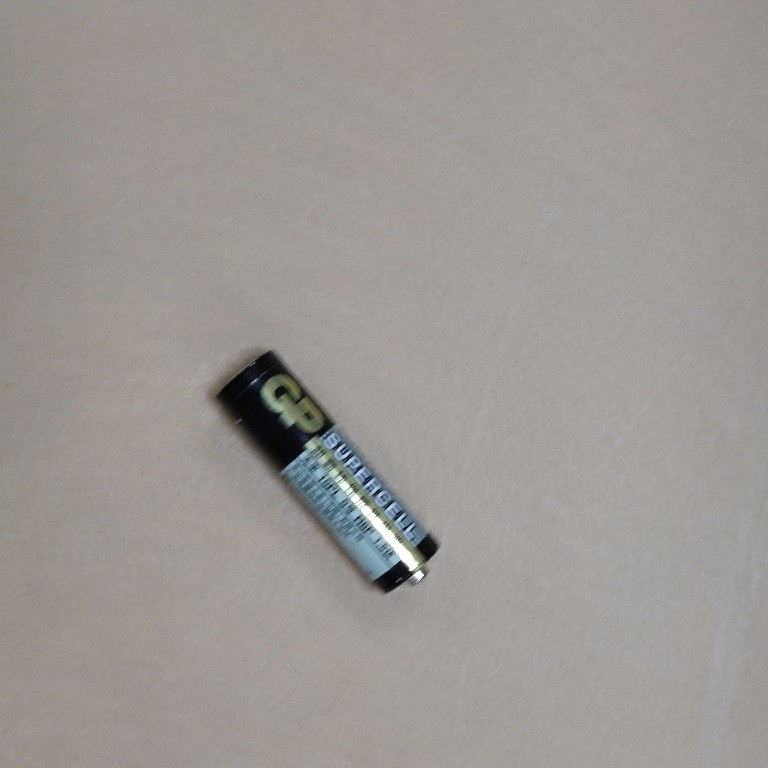charge: (211, 346, 448, 598)
